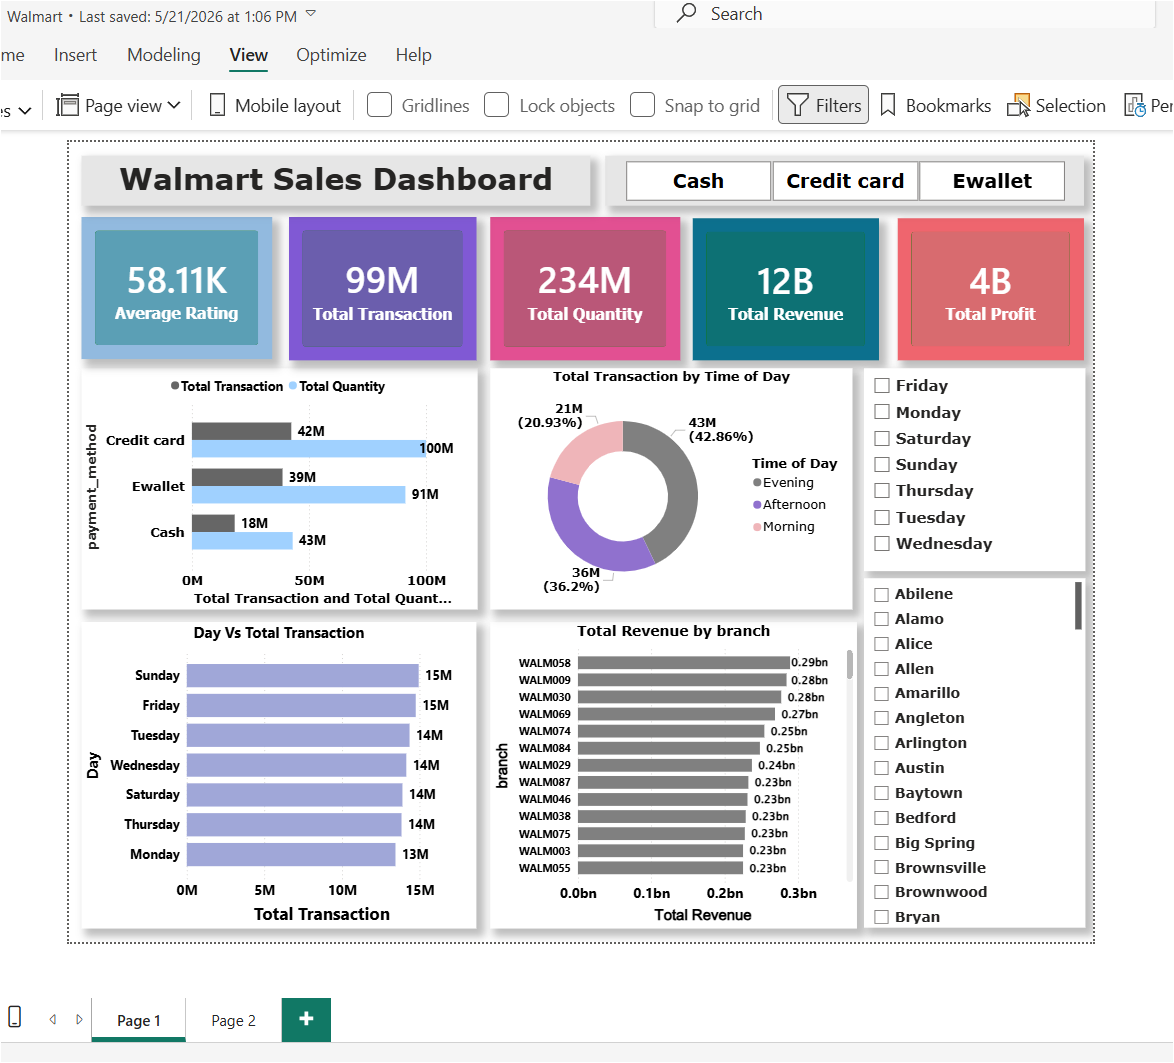

The dashboard page shown, as its layout file describes it:
{"tool":"powerbi","page":{"name":"Page 1","canvas":[1280,1000],"ordinal":0},"visuals":[{"type":"clusteredBarChart","fields":{"Category":["walmart_datacleaned.payment_method"],"Y":["Sum(walmart_datacleaned.Total Transaction)","Sum(walmart_datacleaned.Total Quantity)"]},"box":[16,282.5,495.1,301.4],"z":0},{"type":"cardVisual","title":"Average Rating","fields":{"Data":["Sum(walmart_datacleaned.Average Rating)"]},"box":[16,93.2,238.8,177.6],"z":1000},{"type":"cardVisual","title":"Average Rating","fields":{"Data":["Sum(walmart_datacleaned.Total Quantity)"]},"box":[527.1,93.2,237.3,179.1],"z":2000},{"type":"cardVisual","title":"Average Rating","fields":{"Data":["Sum(walmart_datacleaned.Total Transaction)"]},"box":[275.2,93.2,234.4,179.1],"z":3000},{"type":"cardVisual","title":"Average Rating","fields":{"Data":["Sum(walmart_datacleaned.Total Revenue)"]},"box":[779,94.6,233,177.6],"z":4000},{"type":"cardVisual","title":"Average Rating","fields":{"Data":["Sum(walmart_datacleaned.Total Profit)"]},"box":[1035.2,94.6,233,177.6],"z":5000},{"type":"clusteredBarChart","title":"Day Vs Total Transaction","fields":{"Category":["walmart_datacleaned.Day_Name"],"Y":["Sum(walmart_datacleaned.Total Transaction)"]},"box":[16,599.9,493.6,382.9],"z":6000},{"type":"barChart","fields":{"Category":["walmart_datacleaned.branch"],"Y":["Sum(walmart_datacleaned.Total Revenue)"]},"box":[527.1,599.9,458.7,382.9],"z":7000},{"type":"donutChart","fields":{"Category":["walmart_datacleaned.Time_of_Day"],"Y":["Sum(walmart_datacleaned.Total Transaction)"]},"box":[527.1,282.5,452.8,301.4],"z":8000},{"type":"slicer","fields":{"Values":["walmart_datacleaned.payment_method"]},"box":[669.8,17.5,598.4,62.6],"z":8001},{"type":"slicer","fields":{"Values":["walmart_datacleaned.Day_Name"]},"box":[993,282.5,276.6,253.4],"z":8002},{"type":"slicer","fields":{"Values":["walmart_datacleaned.city"]},"box":[993,546,276.6,436.8],"z":8003},{"type":"textbox","box":[16,17.5,636.3,62.6],"z":8004}]}

Visuals, with their boxes on the page's 1280x1000 design canvas (x1, y1, x2, y2). These are canvas units, not pixel positions in the 1174x1063 screenshot, which may show the page scaled, cropped or inside an application window:
clusteredBarChart - walmart_datacleaned.payment_method x Sum(walmart_datacleaned.Total Transaction): bbox=[16, 282, 511, 584]
"Average Rating" cardVisual: bbox=[16, 93, 255, 271]
"Average Rating" cardVisual: bbox=[527, 93, 764, 272]
"Average Rating" cardVisual: bbox=[275, 93, 510, 272]
"Average Rating" cardVisual: bbox=[779, 95, 1012, 272]
"Average Rating" cardVisual: bbox=[1035, 95, 1268, 272]
"Day Vs Total Transaction" clusteredBarChart: bbox=[16, 600, 510, 983]
barChart - walmart_datacleaned.branch x Sum(walmart_datacleaned.Total Revenue): bbox=[527, 600, 986, 983]
donutChart - walmart_datacleaned.Time_of_Day x Sum(walmart_datacleaned.Total Transaction): bbox=[527, 282, 980, 584]
slicer - walmart_datacleaned.payment_method: bbox=[670, 18, 1268, 80]
slicer - walmart_datacleaned.Day_Name: bbox=[993, 282, 1270, 536]
slicer - walmart_datacleaned.city: bbox=[993, 546, 1270, 983]
textbox: bbox=[16, 18, 652, 80]
